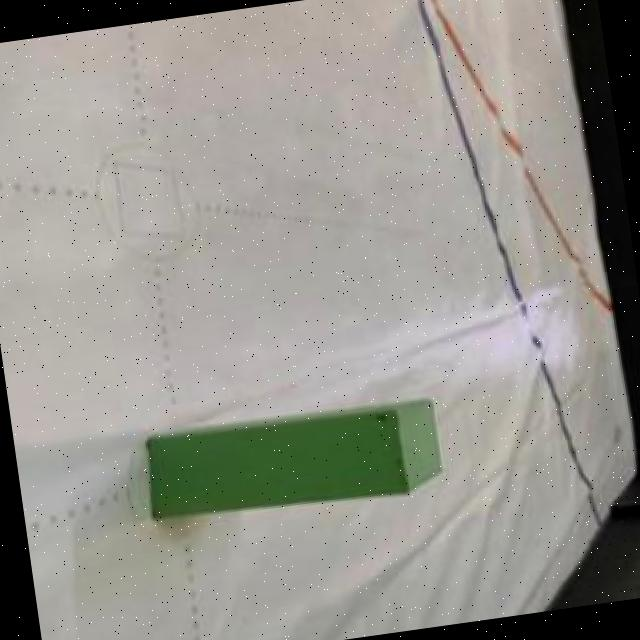greenbox: (140, 396, 448, 531)
